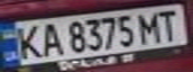3: (84, 16, 106, 52)
5: (115, 11, 139, 47)
7: (100, 14, 121, 50)
8: (63, 18, 87, 53)
A: (36, 20, 63, 57)
K: (9, 22, 45, 61)
M: (136, 9, 166, 44)
T: (151, 7, 184, 42)
